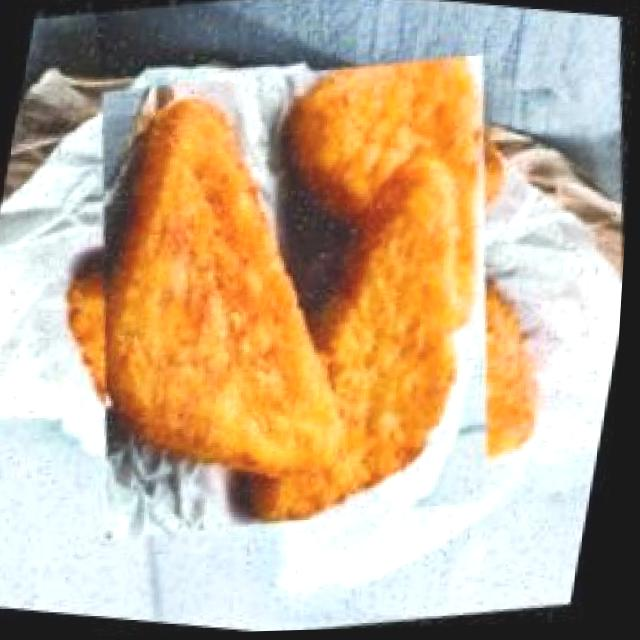triangle_hash_brown: (13, 21, 581, 577)
